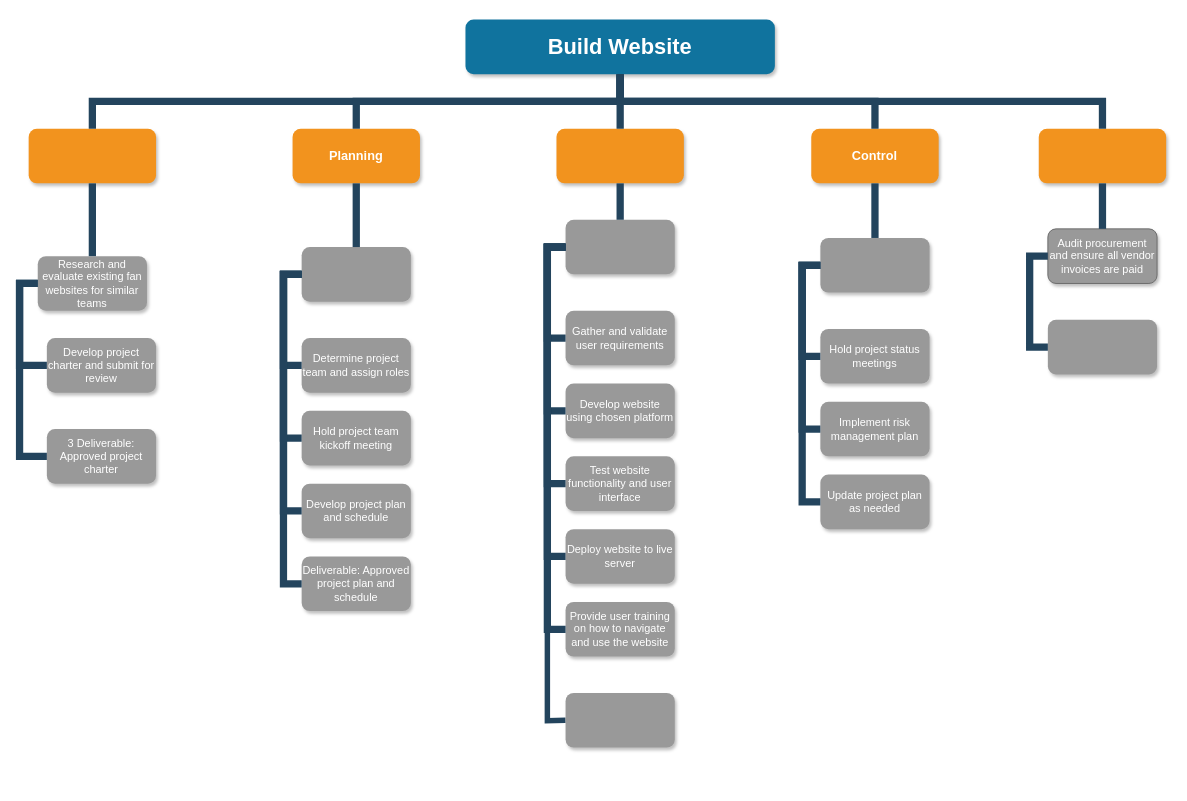
The diagram is 1187 pixels wide and 801 high, and some of its shapes have lost their labels. Each missing label, with the centre of its shape:
"Closeout" belongs at point (1103, 157).
"Create website design and layout" belongs at point (357, 275).
"Document lessons learned and best practices for future reference" belongs at point (1103, 348).
"Execution" belongs at point (620, 157).
"Go live and launch website" belongs at point (620, 721).
"Hold project kickoff meeting" belongs at point (620, 248).
"Initiation" belongs at point (93, 157).
"Monitor and manage project progress" belongs at point (875, 266).
